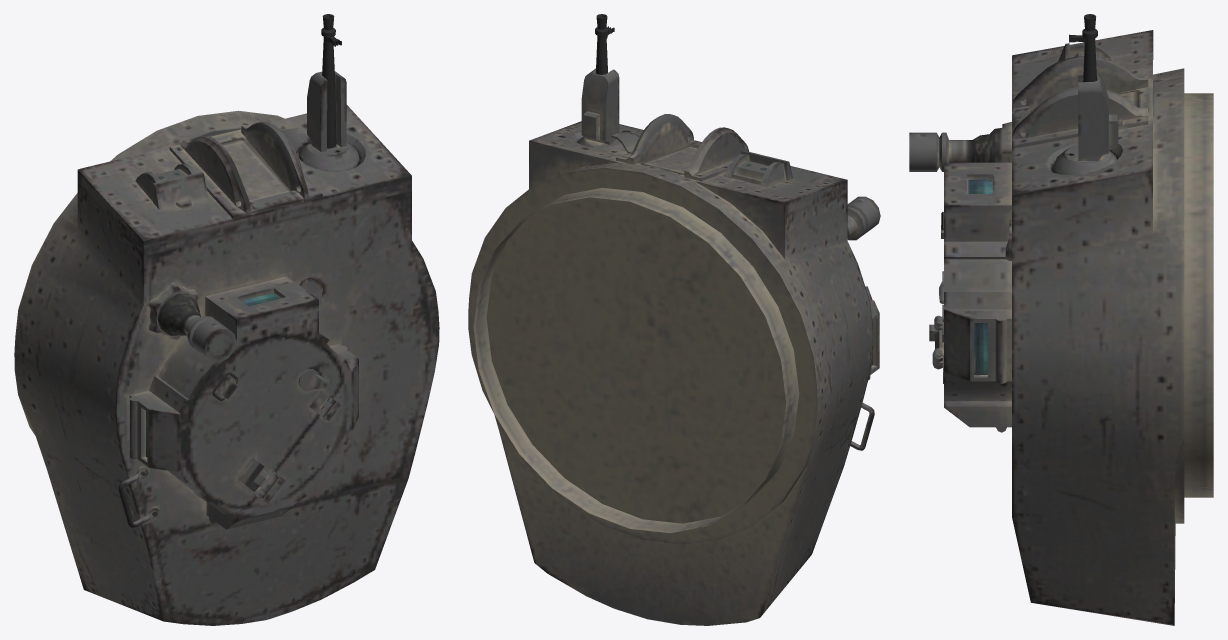
The model's file is Turret_01.glb.
3 views of the same model, side by side, from view 1: azimuth 30°, elevation 25°; view 2: azimuth 150°, elevation 25°; view 3: azimuth 270°, elevation 25° (orthographic). The views are drawn at different scales.
Parts seen in each view (by area): view 1: set_0_group_0; view 2: set_0_group_0; view 3: set_0_group_0.
Boxes of the visible parts, bbox=[...] form: set_0_group_0: bbox=[14, 14, 439, 625]; set_0_group_0: bbox=[468, 14, 880, 625]; set_0_group_0: bbox=[909, 14, 1213, 625].
Bounding box in the file's own units: 1.38 × 2.09 × 0.925.
Materials: 1 (1 with a texture image).
